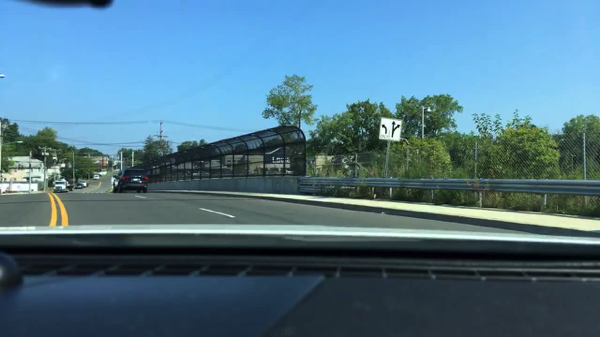car: (112, 168, 148, 193), (77, 181, 89, 188), (73, 184, 84, 190)
traffic light: (75, 168, 78, 173), (62, 167, 65, 172)
traffic sign: (377, 116, 402, 142)
truck: (52, 178, 71, 194), (93, 174, 100, 181)
